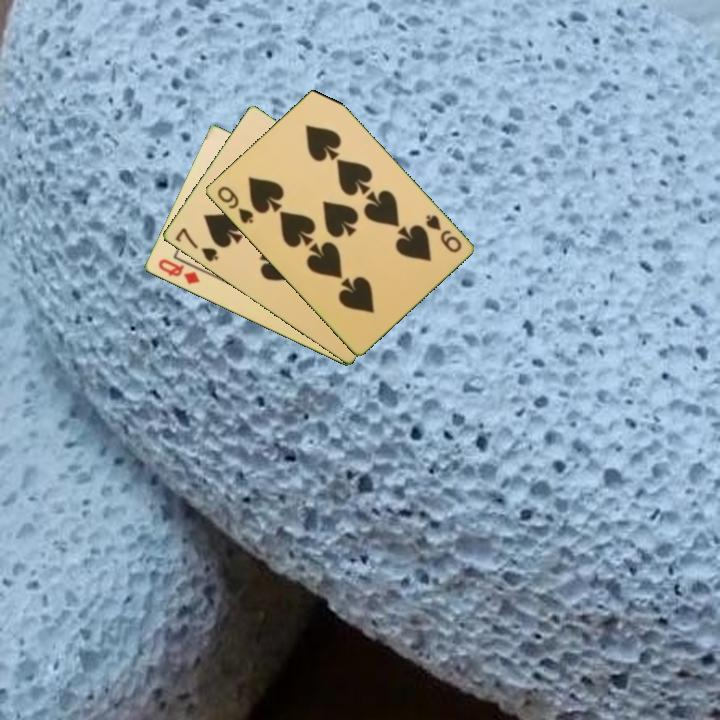7s: (171, 224, 221, 265)
9s: (421, 211, 464, 256), (213, 183, 256, 227)
Qd: (154, 255, 202, 287)
